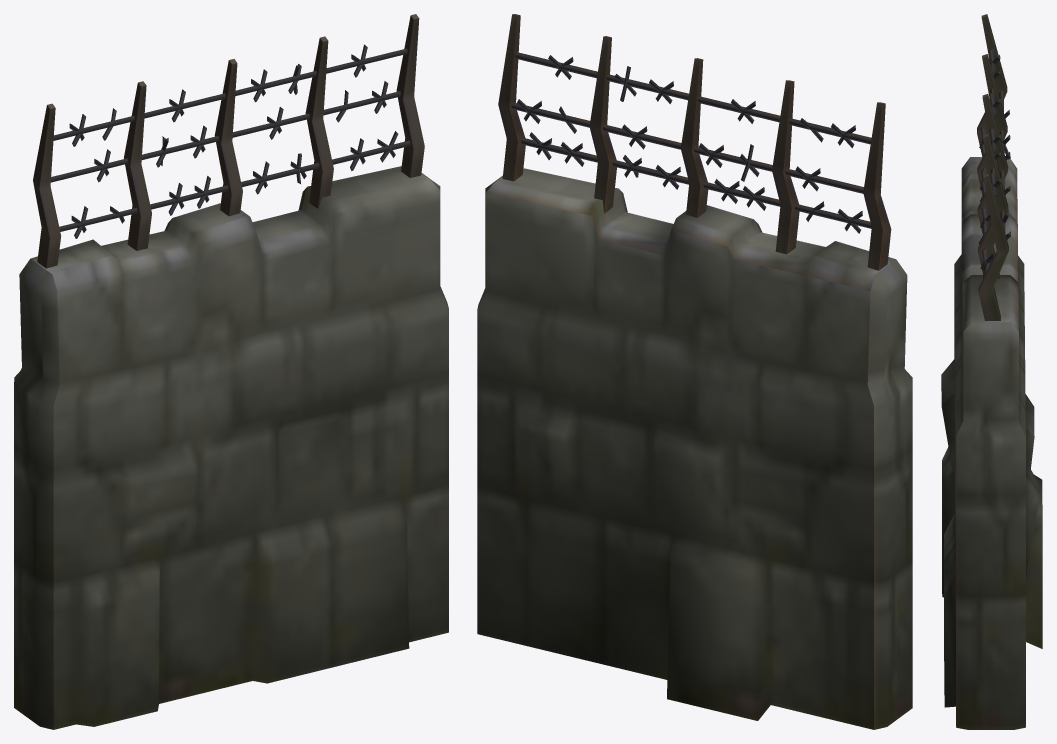
The model's file is wall01.FBX.
The picture shows the model from 3 angles, left to right: view 1: azimuth 30°, elevation 25°; view 2: azimuth 150°, elevation 25°; view 3: azimuth 270°, elevation 25°; orthographic projection. The views are drawn at different scales.
Visible parts, largest first — view 1: Wall_05 (3); view 2: Wall_05 (3); view 3: Wall_05 (3).
Boxes of the visible parts, x1=… form: Wall_05 (3): x1=14, y1=14, x2=448, y2=729; Wall_05 (3): x1=477, y1=14, x2=912, y2=729; Wall_05 (3): x1=941, y1=14, x2=1042, y2=729.
Bounding box in the file's own units: 4.24 × 6.13 × 1.02.
Materials: 1 (1 with a texture image).
